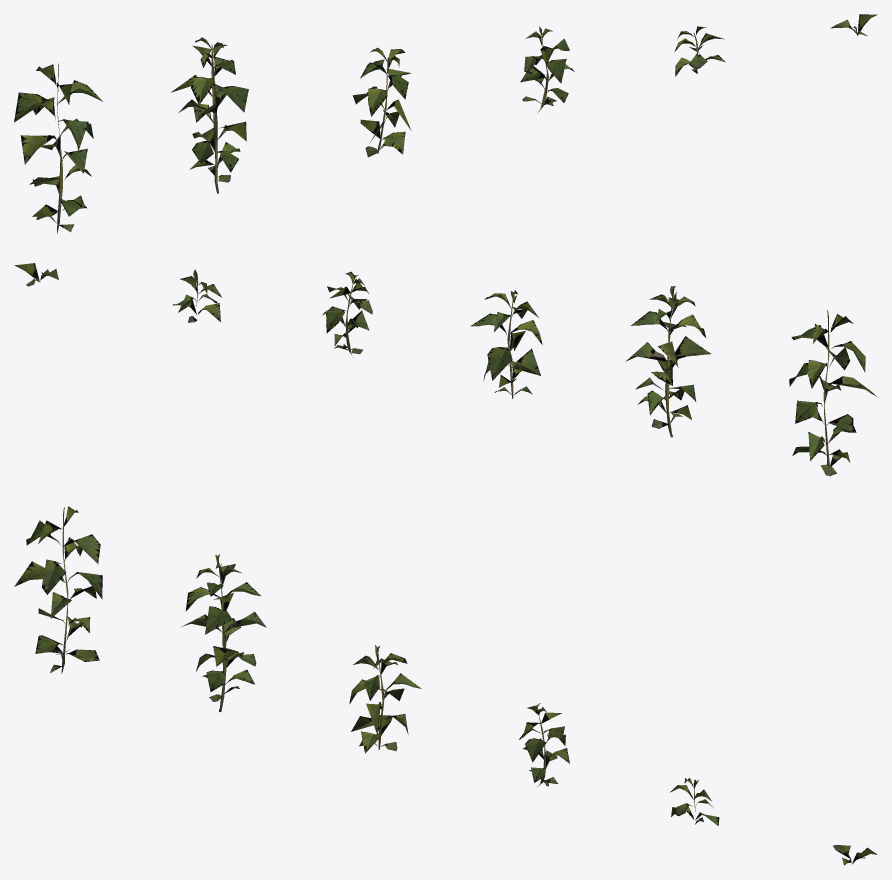
The model's file is nettle_plant.glb.
The picture shows the model from 3 angles, top to bottom: view 1: azimuth 30°, elevation 25°; view 2: azimuth 150°, elevation 25°; view 3: azimuth 330°, elevation 25°; orthographic projection.
Visible parts, largest first — view 1: nettle_plant_medium_a_LOD0; view 2: nettle_plant_medium_a_LOD0; view 3: nettle_plant_medium_a_LOD0.
Boxes of the visible parts, <box> form: nettle_plant_medium_a_LOD0: <box>14,14,877,233</box>; nettle_plant_medium_a_LOD0: <box>14,263,876,476</box>; nettle_plant_medium_a_LOD0: <box>14,506,877,865</box>.
Size of the model in its own units: 1.08 by 0.2037 by 0.0947.
Materials: 1 (1 with a texture image).
